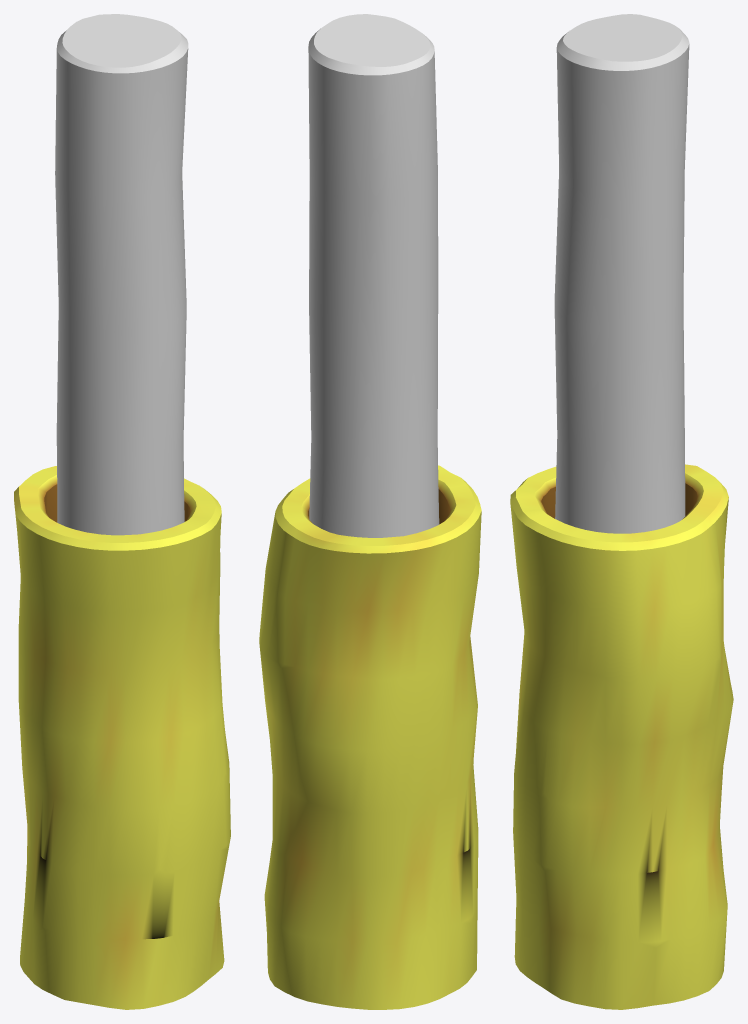
File: msh_Arch.fbx
3 renders of one model, left to right at view 1: azimuth 30°, elevation 25°; view 2: azimuth 150°, elevation 25°; view 3: azimuth 270°, elevation 25°, orthographic.
Parts seen in each view (by area): view 1: msh_ArchOut, msh_Arch_In; view 2: msh_ArchOut, msh_Arch_In; view 3: msh_ArchOut, msh_Arch_In.
Boxes of the visible parts, box(x1,y1,x2,y2) form: msh_ArchOut: box(14, 466, 230, 1009); msh_Arch_In: box(55, 14, 188, 535); msh_ArchOut: box(259, 465, 481, 1009); msh_Arch_In: box(308, 14, 439, 537); msh_ArchOut: box(510, 464, 733, 1009); msh_Arch_In: box(554, 14, 689, 533).
Bounding box in the file's own units: 1.4 × 6.62 × 1.44.
